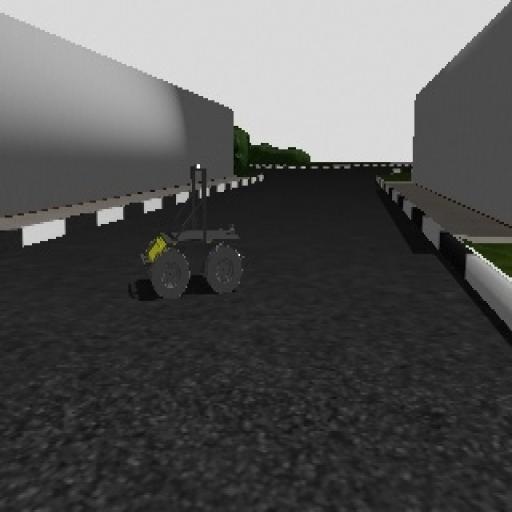huskya200: (129, 148, 251, 315)
